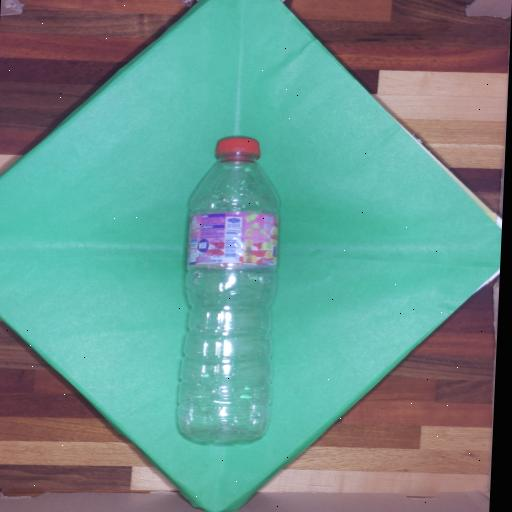bottle: (161, 114, 299, 448)
